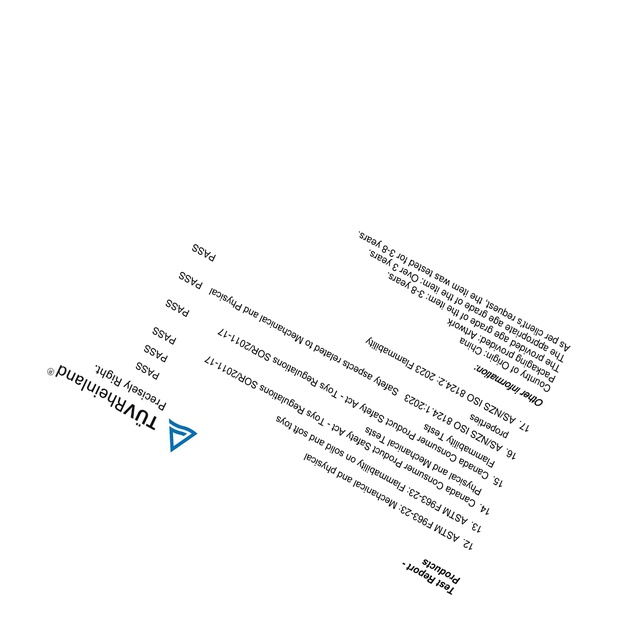tuv_rheinland: (46, 363, 201, 454)
